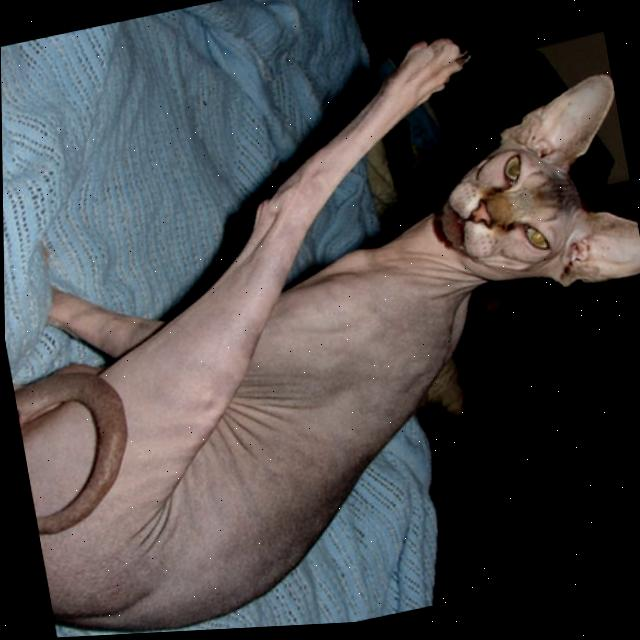Sphynx: (0, 7, 640, 640)
